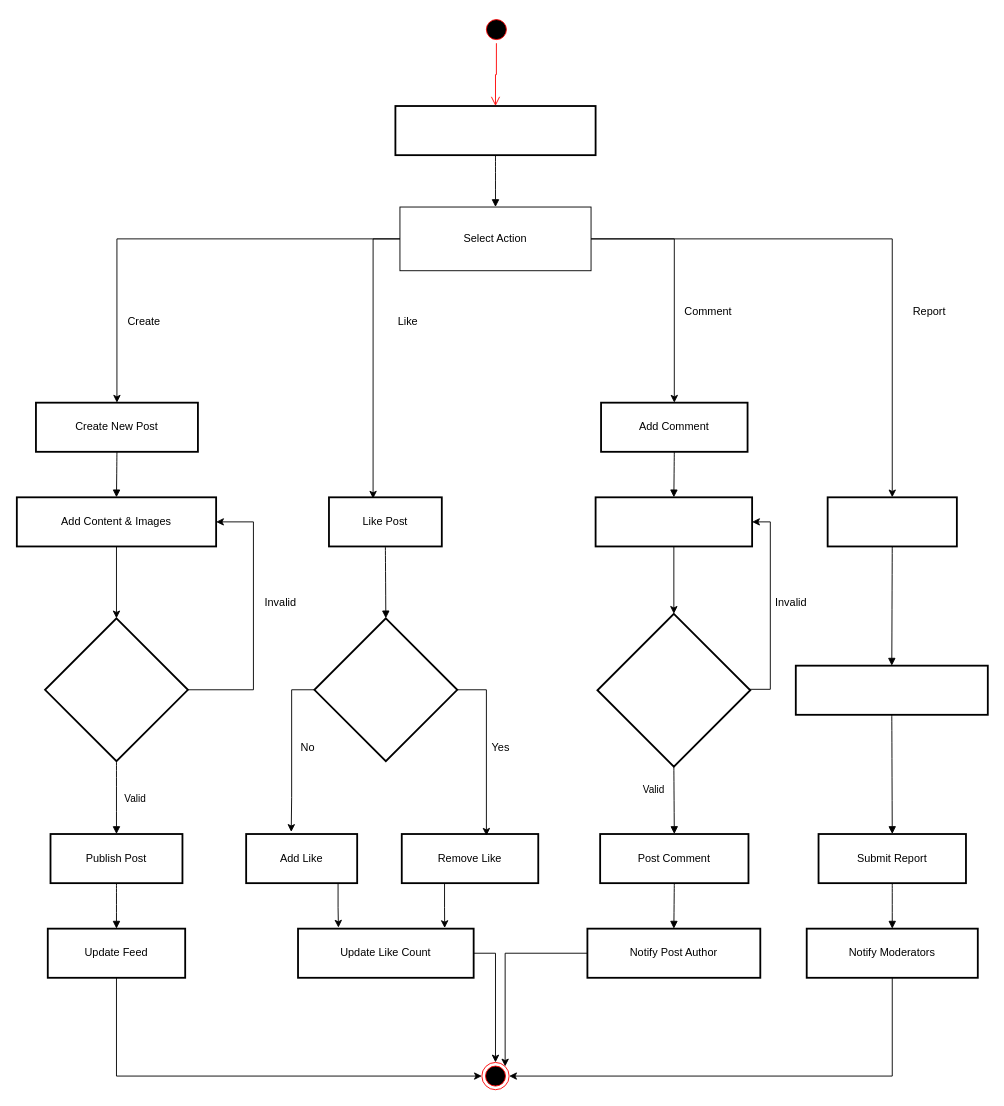
The diagram is 1004 pixels wide and 1106 high, and some of its shapes have lost their labels. Each missing label, with the box of its shape:
Already Liked?: (313, 617, 458, 762)
Comment Valid?: (596, 612, 751, 767)
Content Valid?: (44, 617, 188, 762)
Report Post: (826, 496, 957, 547)
Select Report Reason: (794, 664, 988, 715)
View Community Feed: (394, 105, 596, 156)
Write Comment: (594, 496, 753, 547)
